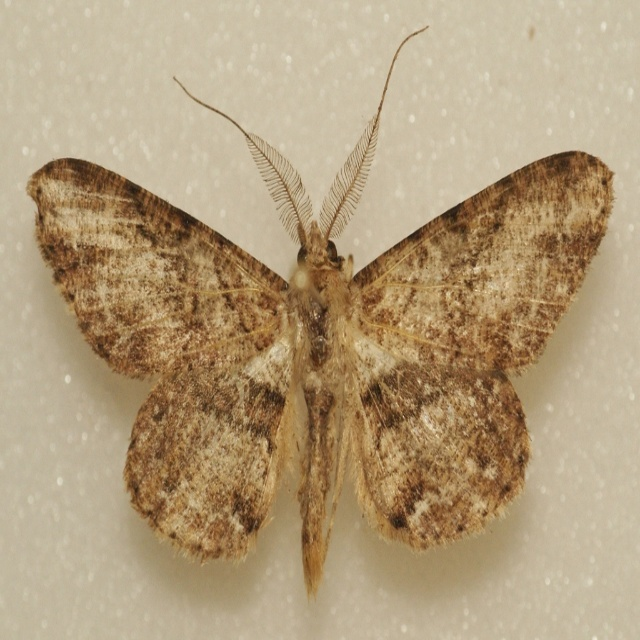Butterfly: (24, 24, 615, 602)
